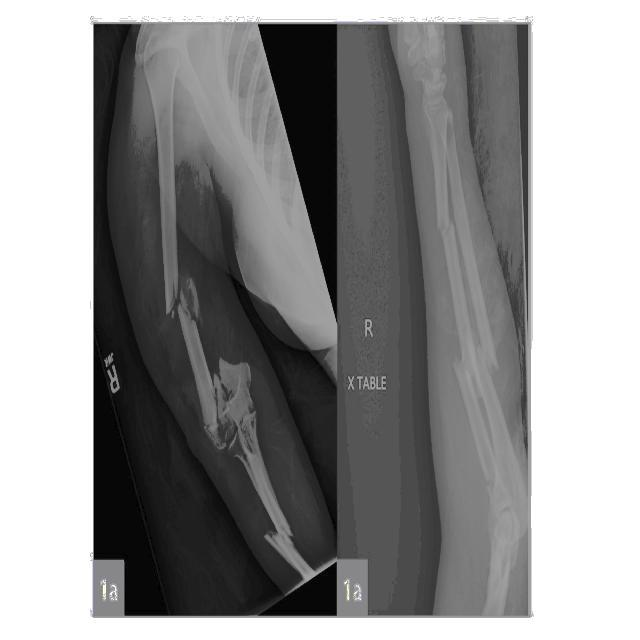Comminuted Fracture: (248, 496, 317, 556), (156, 252, 200, 327)
